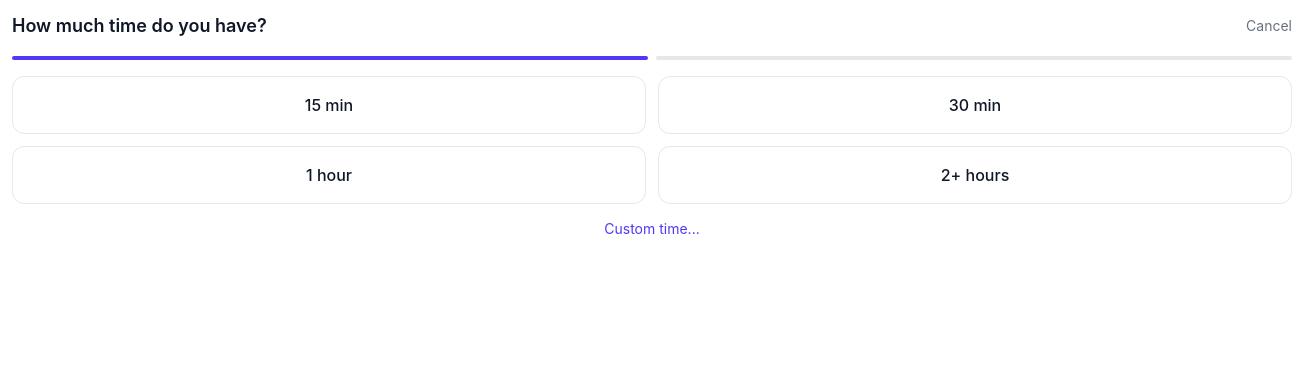
it: FreeTimeFlow › shows back button on step 2 that returns to step 1
Click the button "30 min": (975, 105) [658,76,1292,134]
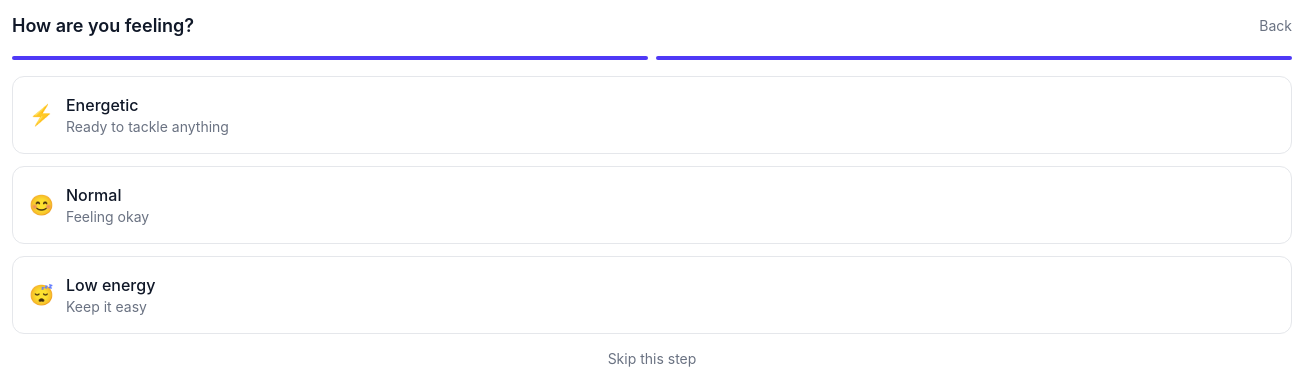
expect the button labelled "Back" is shown: met
Click the button labelled "Back": (1276, 26) [1259,16,1292,36]
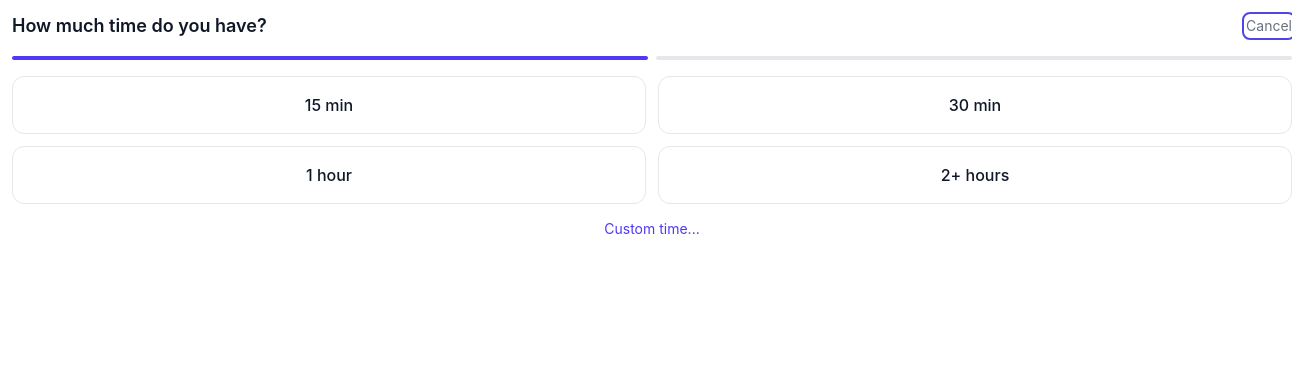
expect the heading "How much time do you have?" is shown: met, box [12,12,267,40]
